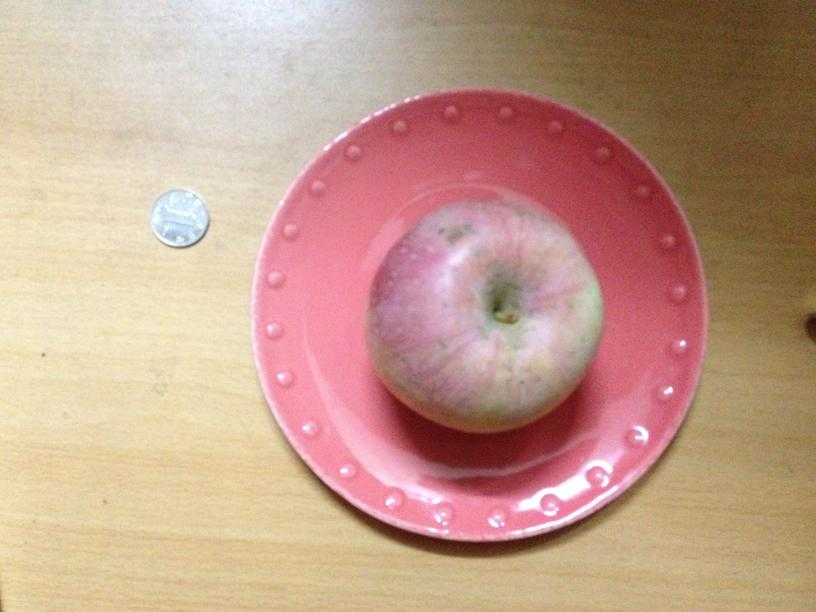apple: (368, 199, 605, 432)
coin: (148, 186, 210, 248)
